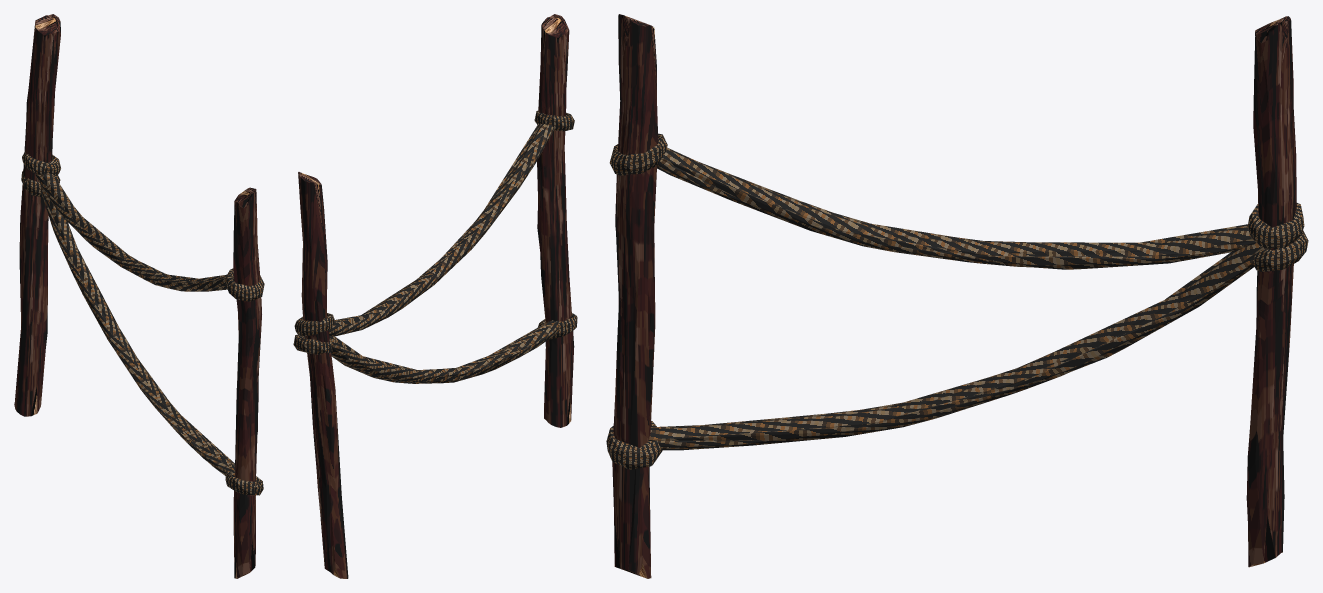
Rendered from cave-fence1.glb.
3 renders of one model, left to right at view 1: azimuth 30°, elevation 25°; view 2: azimuth 150°, elevation 25°; view 3: azimuth 270°, elevation 25°, orthographic. The views are drawn at different scales.
Parts seen in each view (by area): view 1: Cylinder.005; view 2: Cylinder.005; view 3: Cylinder.005.
Boxes of the visible parts, x1,y1,x2,y2 form: Cylinder.005: (14, 14, 264, 578); Cylinder.005: (293, 14, 577, 578); Cylinder.005: (606, 14, 1308, 578).
Size of the model in its own units: 0.2048 by 1.57 by 1.72.
Materials: 5 (5 with a texture image).
